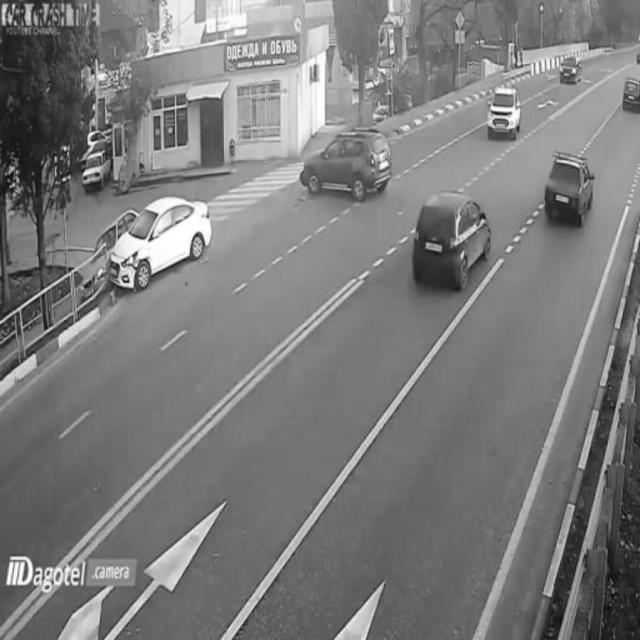accident: (85, 199, 209, 287)
vehicle: (413, 185, 491, 287), (303, 125, 391, 196), (546, 147, 596, 227), (480, 83, 524, 144), (79, 148, 107, 193), (557, 50, 582, 86), (621, 71, 640, 113)
